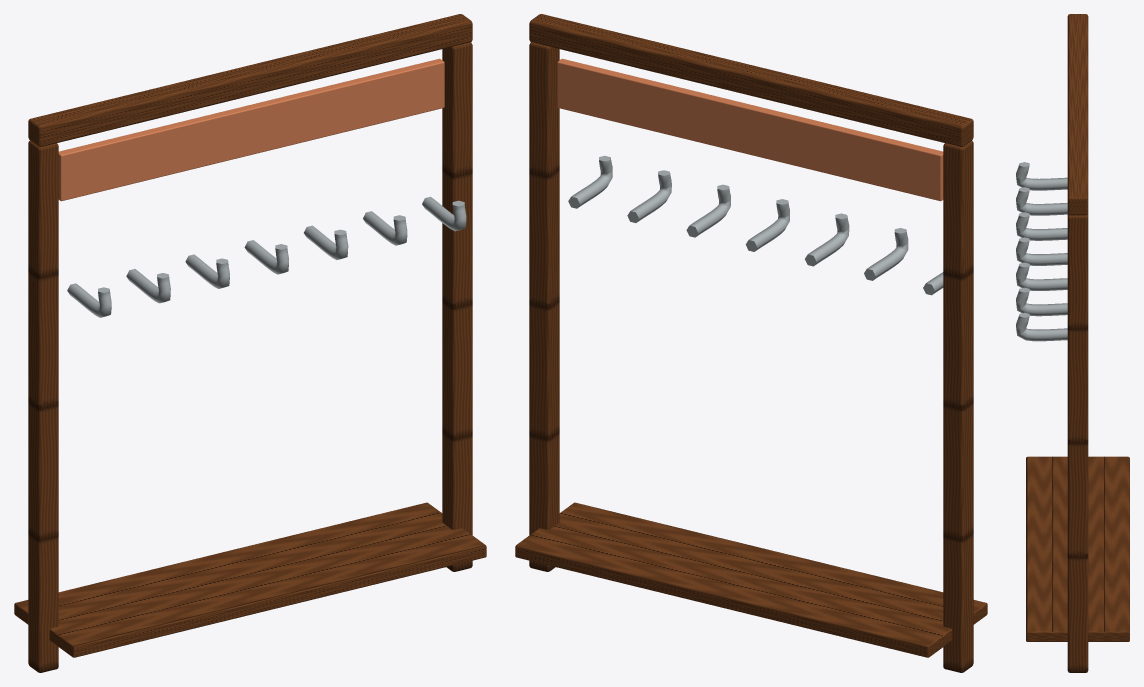
3 views of the same model, side by side, from view 1: azimuth 30°, elevation 25°; view 2: azimuth 150°, elevation 25°; view 3: azimuth 270°, elevation 25° (orthographic). The views are drawn at different scales.
Visible parts, largest first — view 1: weapon-free-check-rack; view 2: weapon-free-check-rack; view 3: weapon-free-check-rack.
Boxes of the visible parts, left/top/right/bottom form: weapon-free-check-rack: left=14, top=14, right=486, bottom=672; weapon-free-check-rack: left=515, top=14, right=987, bottom=672; weapon-free-check-rack: left=1016, top=14, right=1129, bottom=672.
Size of the model in its own units: 1.47 by 1.77 by 0.3836.
3 materials, 1 textured.
